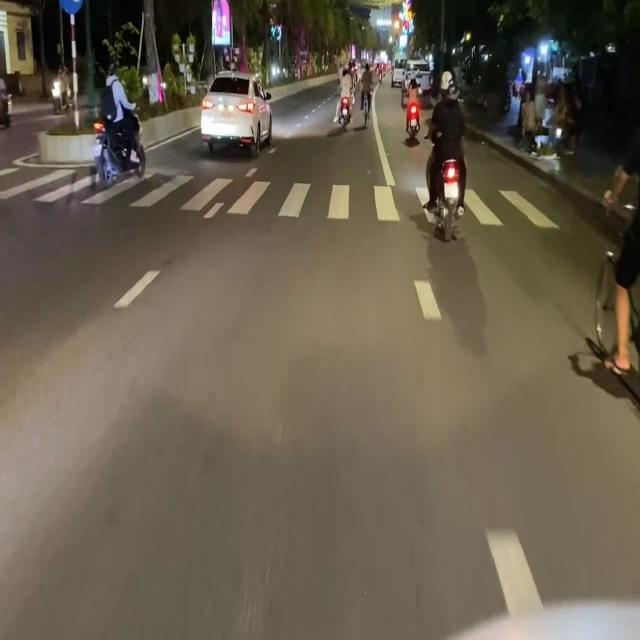walk-crossing: (136, 172, 584, 234)
